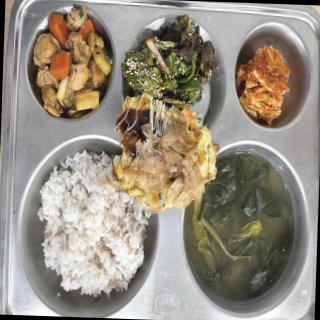Nasi: (34, 157, 151, 312)
